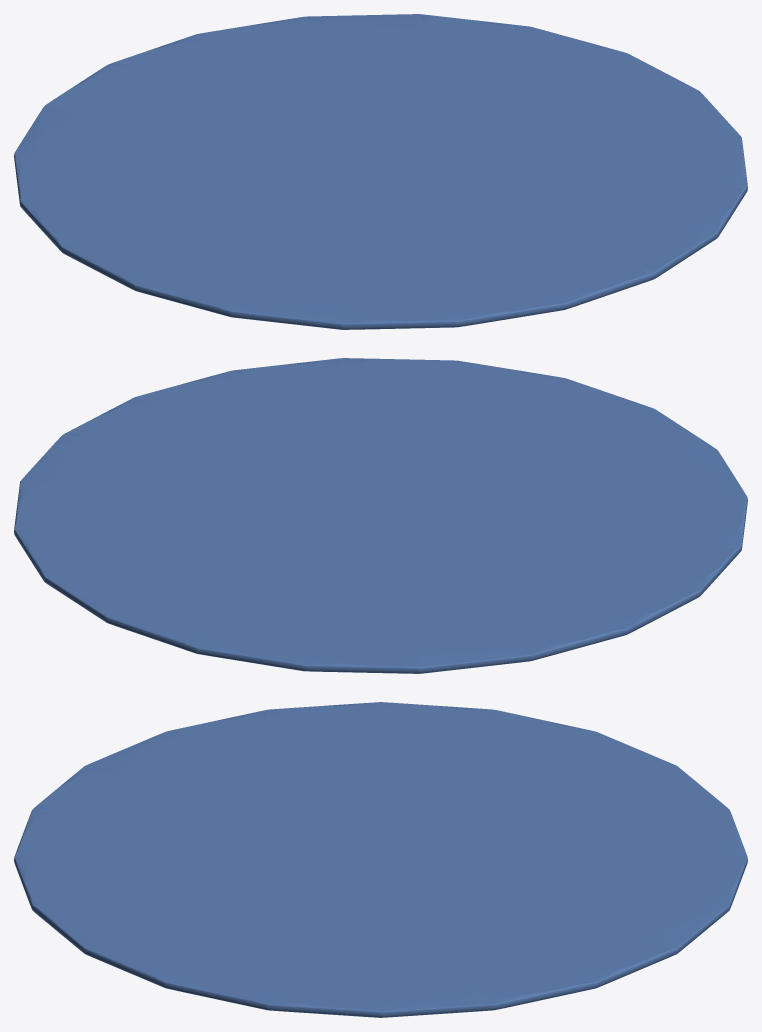
The model's file is mouse pad new material.fbx.
3 renders of one model, top to bottom at view 1: azimuth 30°, elevation 25°; view 2: azimuth 150°, elevation 25°; view 3: azimuth 270°, elevation 25°, orthographic.
Visible parts, largest first — view 1: pCylinder4; view 2: pCylinder4; view 3: pCylinder4.
Boxes of the visible parts, x1=… form: pCylinder4: x1=14, y1=14, x2=747, y2=329; pCylinder4: x1=14, y1=358, x2=747, y2=673; pCylinder4: x1=14, y1=702, x2=747, y2=1017.
Size of the model in its own units: 0.6084 by 0.00686 by 0.6084.
